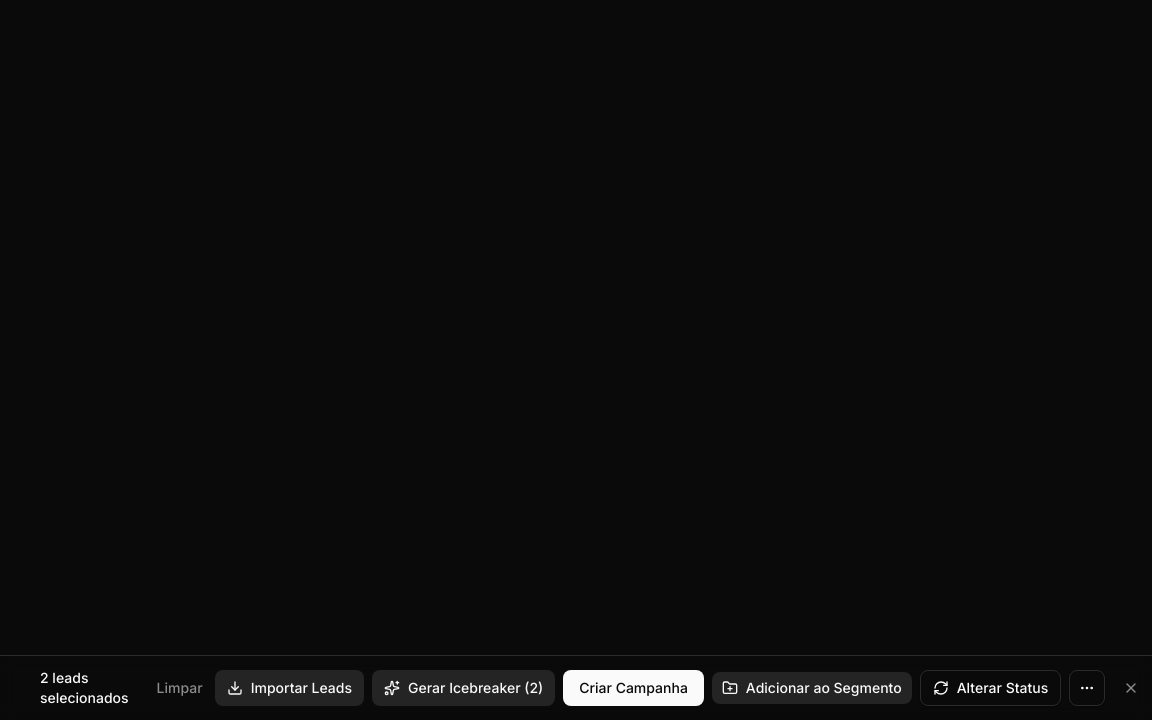
LeadSelectionBar › Icebreaker Generation (Story 6.5.6) › AC#2: shows confirmation dialog when icebreaker button clicked
This screenshot has width=1152, height=720.
Click the button with test id "generate-icebreaker-button".
click(464, 688)  # box [372,670,555,706]
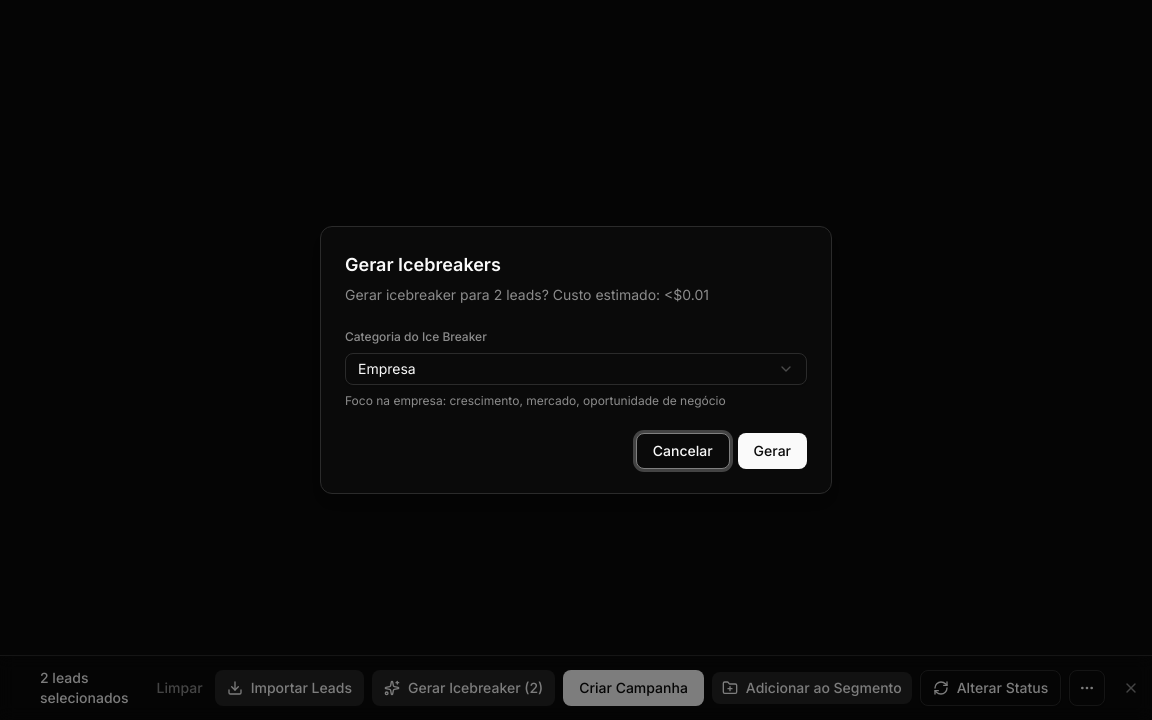
Check: the heading "Gerar Icebreakers" is shown, box [345,251,501,279]
Check: the text "Gerar icebreaker para 2 leads? Custo estimado: <$0.01" is shown, box [345,285,709,305]
